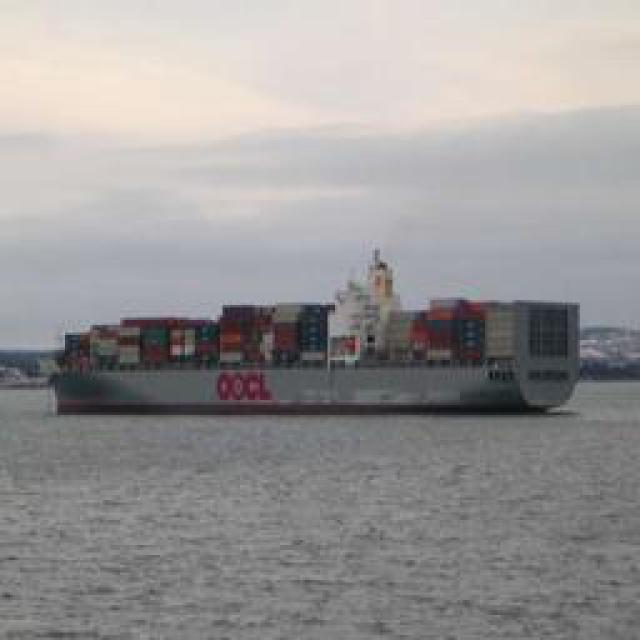Ship: (55, 294, 560, 419)
